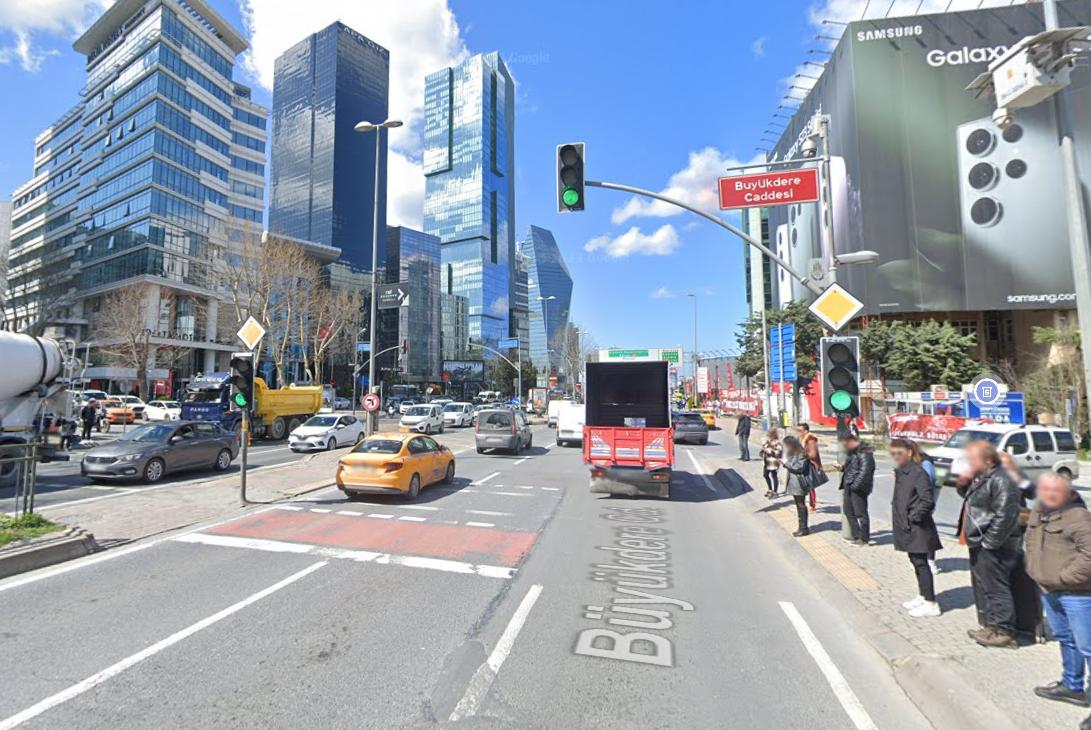greenlight: (822, 338, 858, 416), (556, 144, 582, 211), (229, 350, 254, 412)
leftturnsareforbidden: (363, 393, 380, 411)
